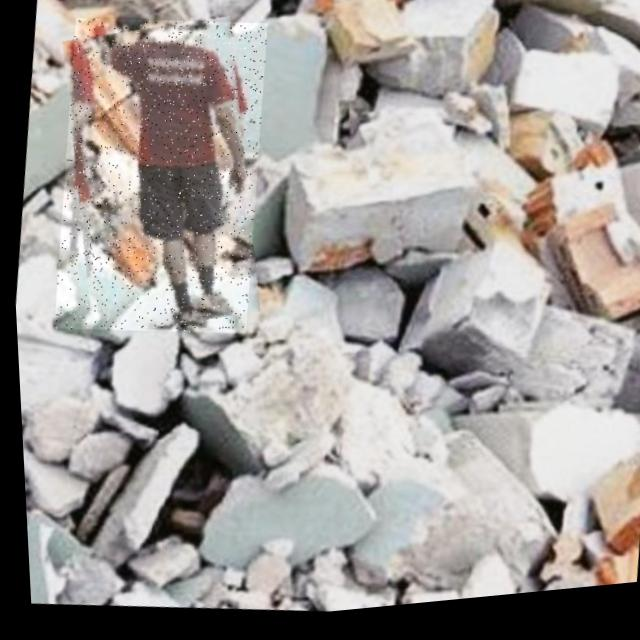Person in Rubble: (38, 5, 279, 352)
